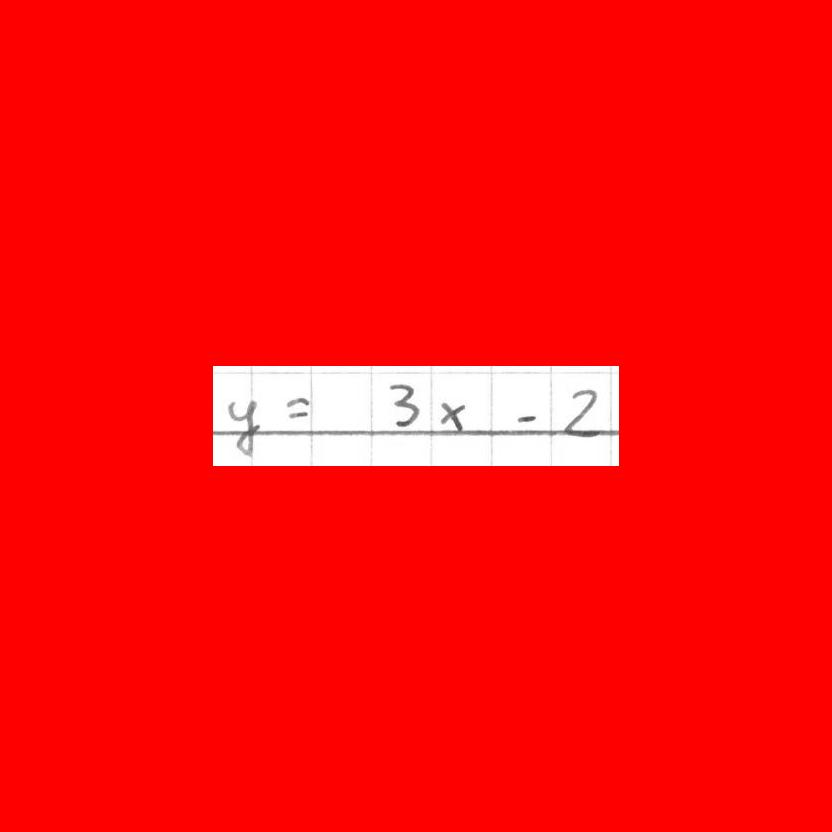Char: (209, 425, 624, 438), (558, 384, 602, 441), (223, 397, 263, 453), (384, 379, 420, 431), (435, 397, 472, 434), (284, 393, 313, 420), (513, 408, 537, 427)
